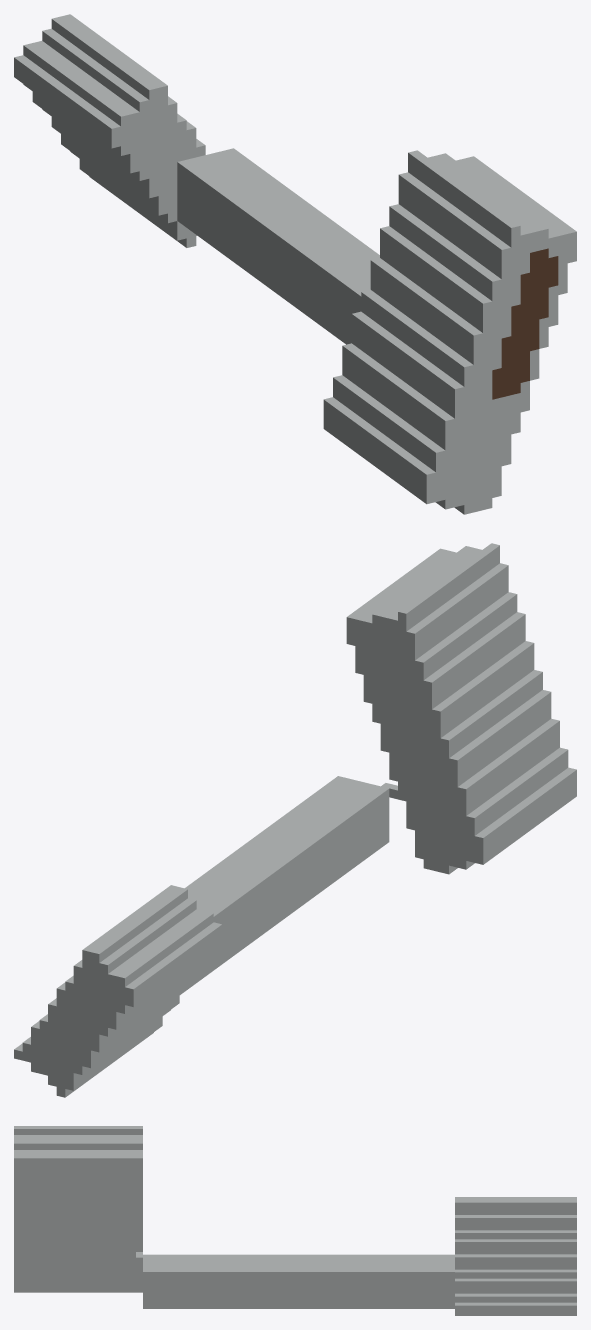
The model's file is jackknifed_lorry_cab_bumper.glb.
3 views of the same model, one above another, from view 1: azimuth 30°, elevation 25°; view 2: azimuth 150°, elevation 25°; view 3: azimuth 270°, elevation 25° (orthographic). The views are drawn at different scales.
Parts seen in each view (by area): view 1: body:compound; view 2: body:compound; view 3: body:compound.
Boxes of the visible parts, x1,y1,x2,y2 form: body:compound: (14, 14, 576, 514); body:compound: (14, 543, 576, 1097); body:compound: (14, 1126, 576, 1315).
Bounding box in the file's own units: 0.5625 × 0.9062 × 2.59.
